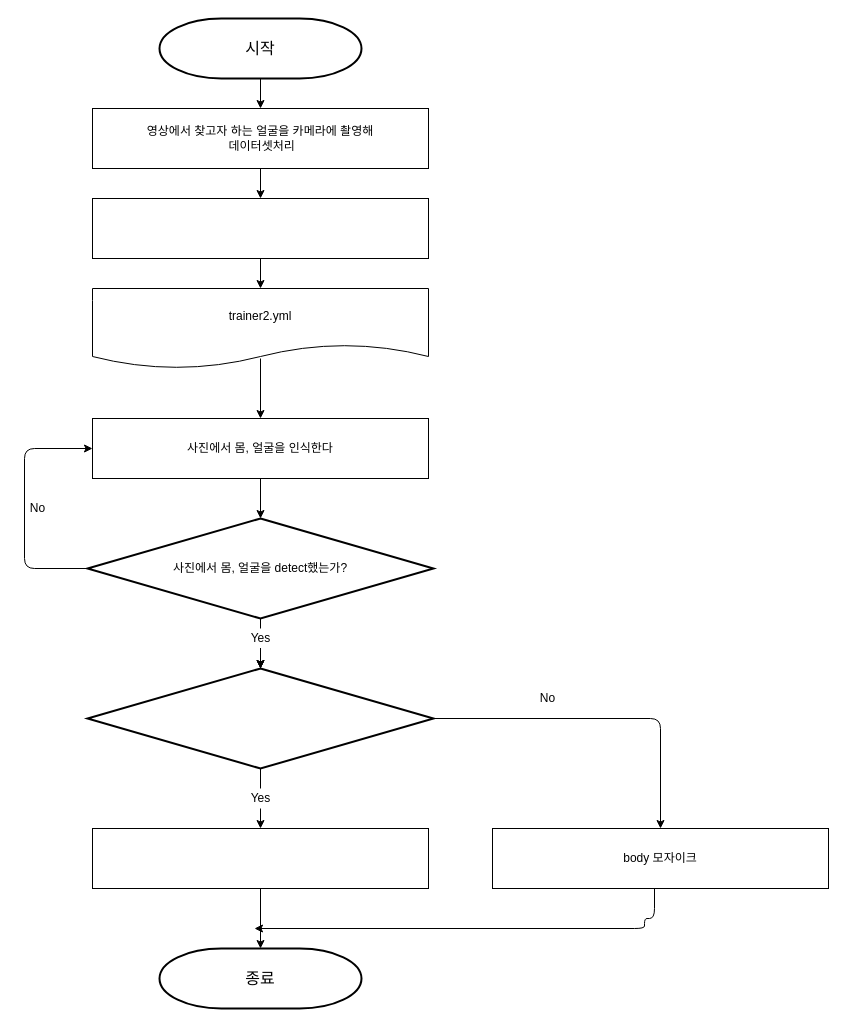
Image size: 846x1026. Some labels were removed from this diagram. Each missing label, with the centre of its shape:
"사진 속 사람이 training한 얼굴과 55%이상으로 일치하는가?" goes at pixel 260 718.
"얼굴 트레이닝" goes at pixel 260 228.
"해당 사람의 이름과 정확도를 출력해준다" goes at pixel 260 858.
